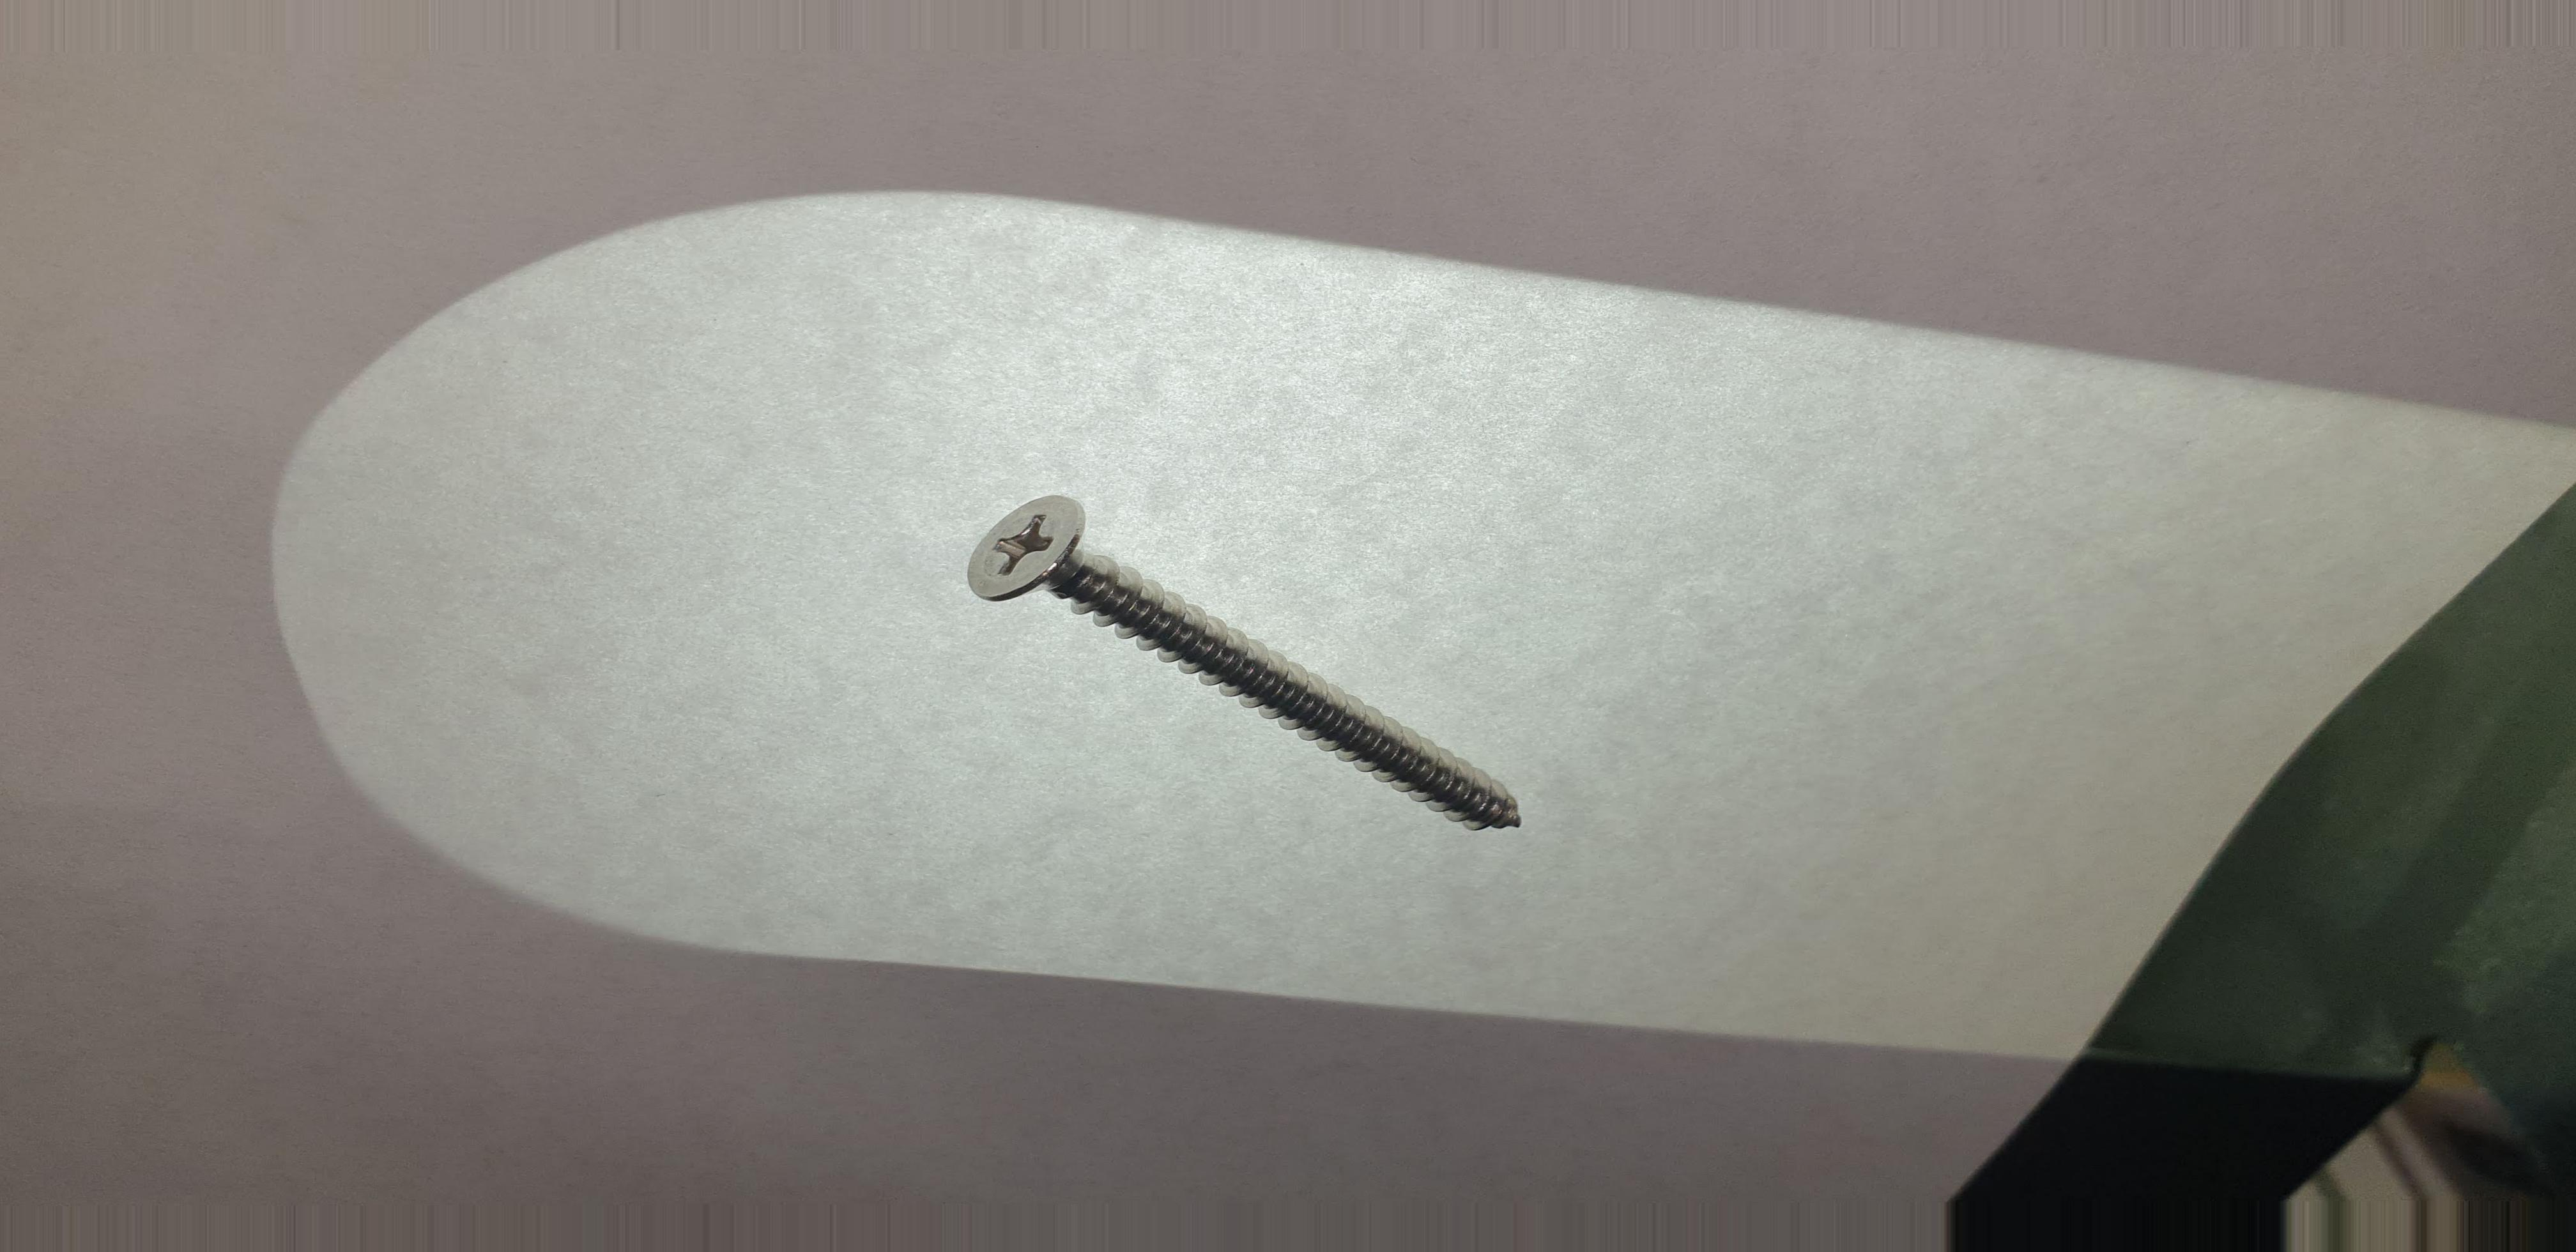fastener: (879, 445, 1661, 897)
